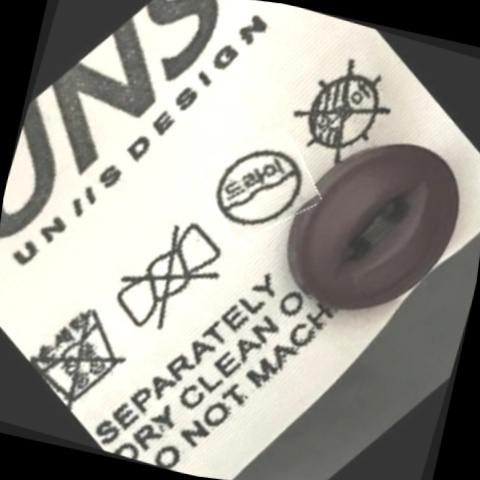DN_dry: (275, 44, 410, 180)
DN_wring: (93, 203, 245, 355)
dry_clean: (199, 126, 322, 251)
hand_wash: (17, 283, 147, 420)
